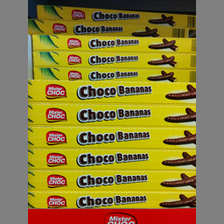chocolate: (28, 80, 196, 103), (28, 128, 197, 150), (28, 103, 196, 125), (28, 171, 196, 192), (28, 150, 196, 170), (27, 191, 195, 208)
